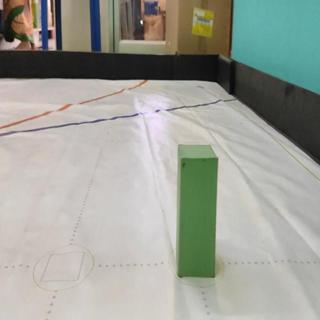greenbox: (175, 143, 219, 277)
